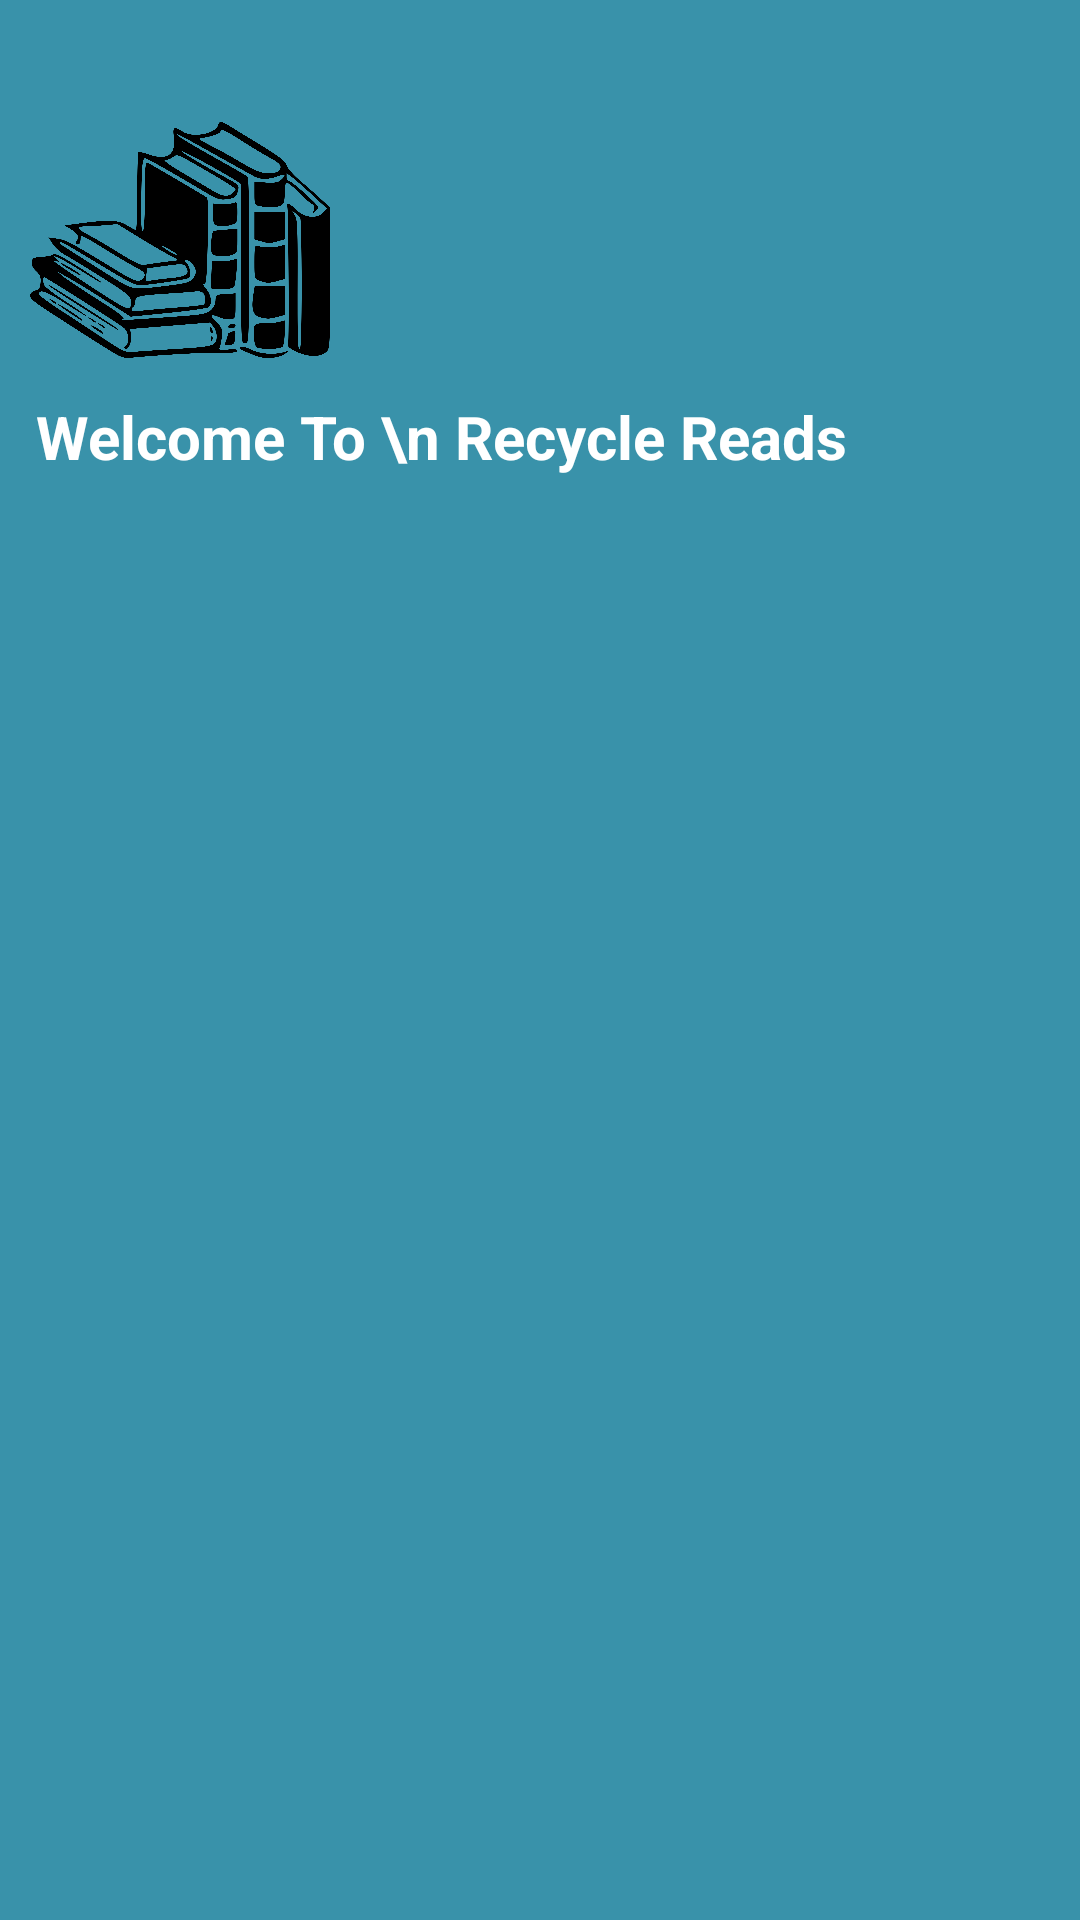

Icons on this 1080x1920 Android screen, each with the point to tap as (x=x, y=y):
books: (x=180, y=240)
